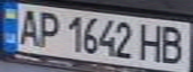1: (60, 12, 84, 53)
2: (115, 18, 139, 60)
4: (97, 17, 118, 57)
6: (78, 15, 100, 55)
A: (12, 6, 42, 47)
B: (157, 22, 190, 64)
H: (136, 20, 166, 62)
P: (33, 8, 63, 48)
